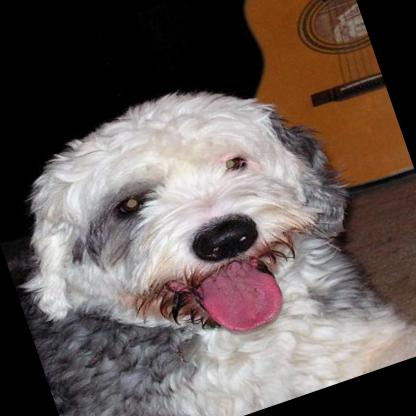Old_English_sheepdog: (0, 20, 416, 416)
